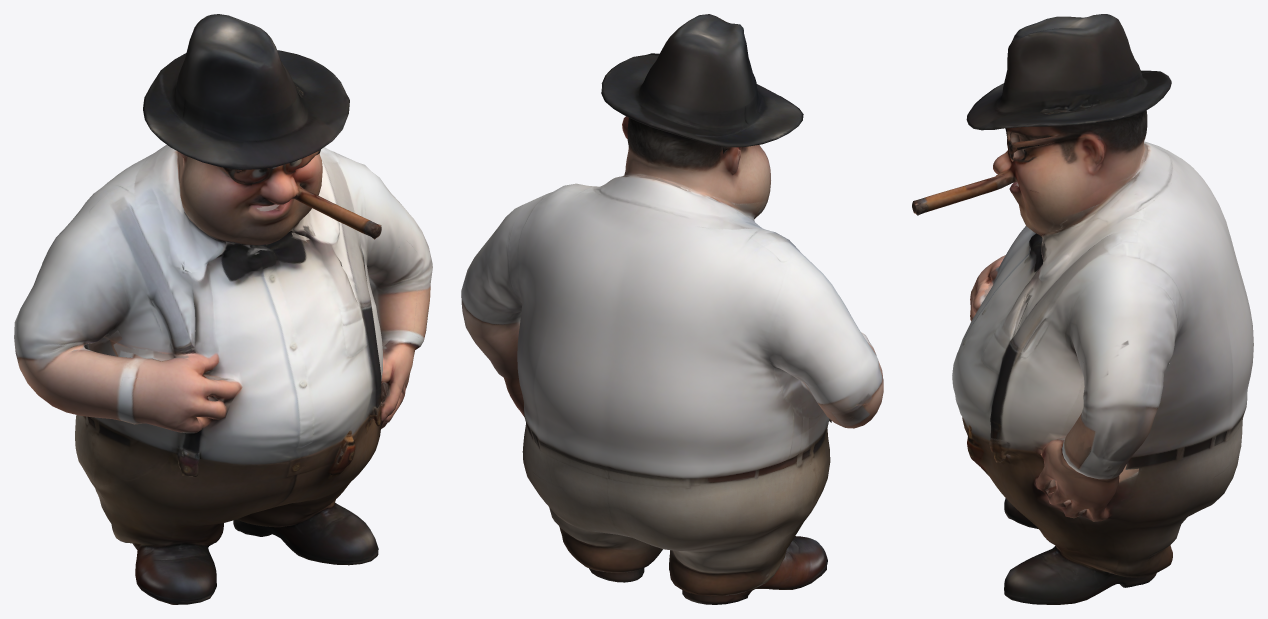
File: Create_a_chubby_boss__0308132515_texture.fbx
3 renders of one model, left to right at view 1: azimuth 30°, elevation 25°; view 2: azimuth 150°, elevation 25°; view 3: azimuth 270°, elevation 25°, orthographic.
Visible parts, largest first — view 1: Mesh1_Mesh1.011; view 2: Mesh1_Mesh1.011; view 3: Mesh1_Mesh1.011.
Boxes of the visible parts, x1,y1,x2,y2 form: Mesh1_Mesh1.011: [14, 14, 432, 604]; Mesh1_Mesh1.011: [461, 14, 883, 604]; Mesh1_Mesh1.011: [912, 14, 1253, 604].
Size of the model in its own units: 159 by 200 by 117.
1 material, 1 textured.
